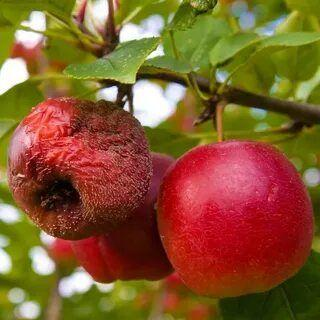Apple: (158, 140, 314, 298), (9, 98, 152, 239)
